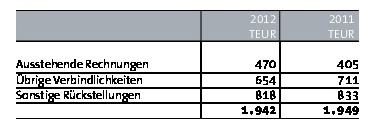table: (0, 0, 374, 128)
